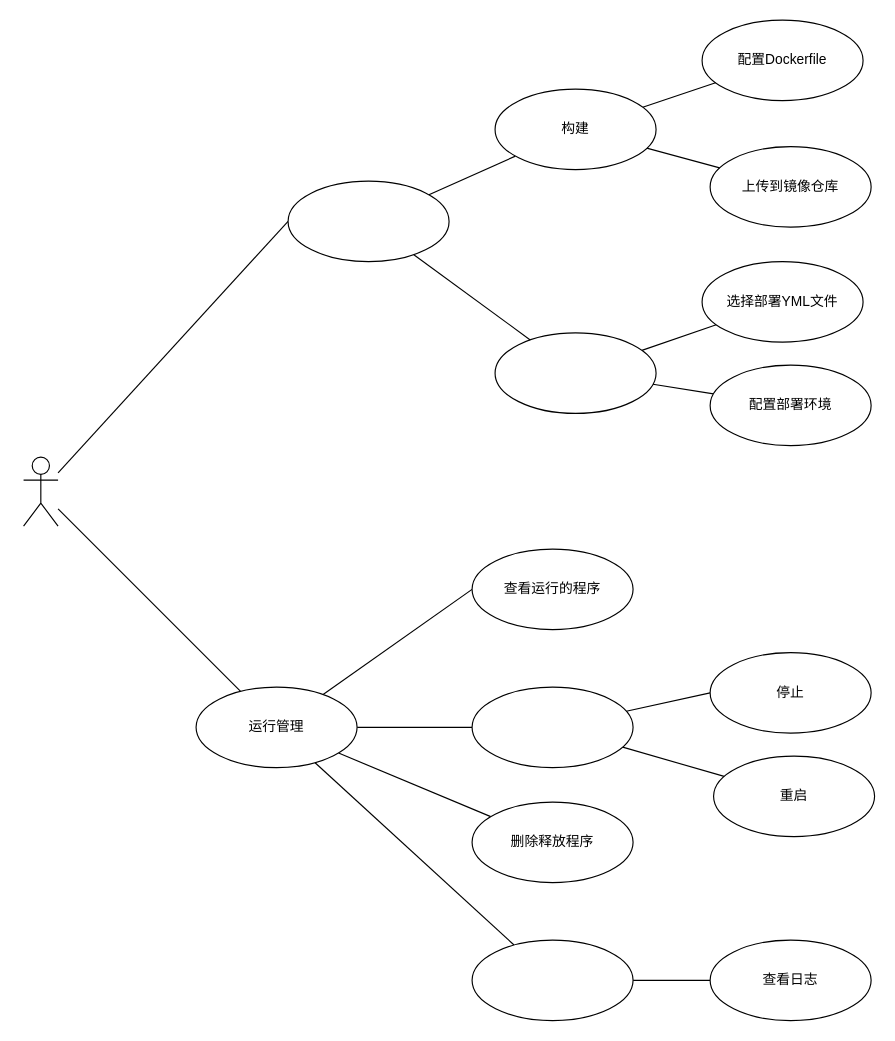
The diagram is 895 pixels wide and 1041 high, and some of its shapes have lost their labels. Each missing label, with the box of its shape:
创建流水线: (287, 180, 449, 262)
发布部署: (494, 332, 656, 413)
开发者: (22, 456, 58, 526)
操作运行程序: (471, 686, 633, 768)
进入运行的容器: (471, 939, 633, 1021)
